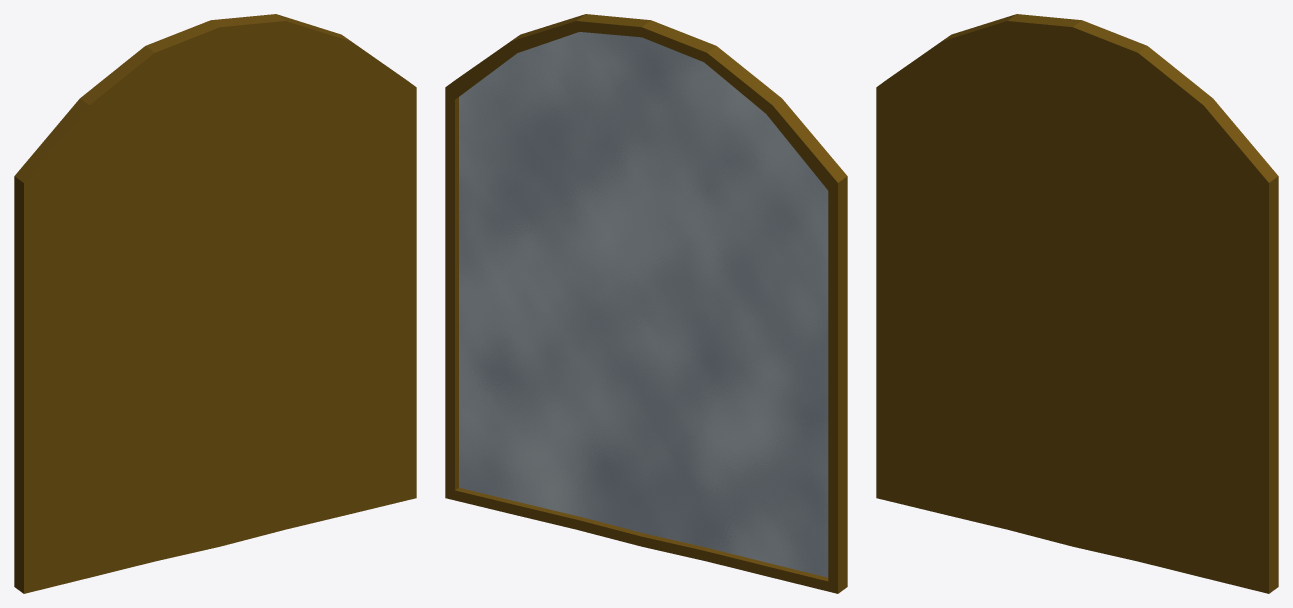
Rendered from Mirror_1.fbx.
The picture shows the model from 3 angles, left to right: view 1: azimuth 30°, elevation 25°; view 2: azimuth 150°, elevation 25°; view 3: azimuth 330°, elevation 25°; orthographic projection.
Visible parts, largest first — view 1: Cube.067; view 2: Cube.067; view 3: Cube.067.
Part boxes in pixels (x1,y1,x2,y2): Cube.067: [14, 14, 416, 593]; Cube.067: [445, 14, 847, 593]; Cube.067: [876, 14, 1278, 593].
Size of the model in its own units: 107 by 136 by 4.52.
